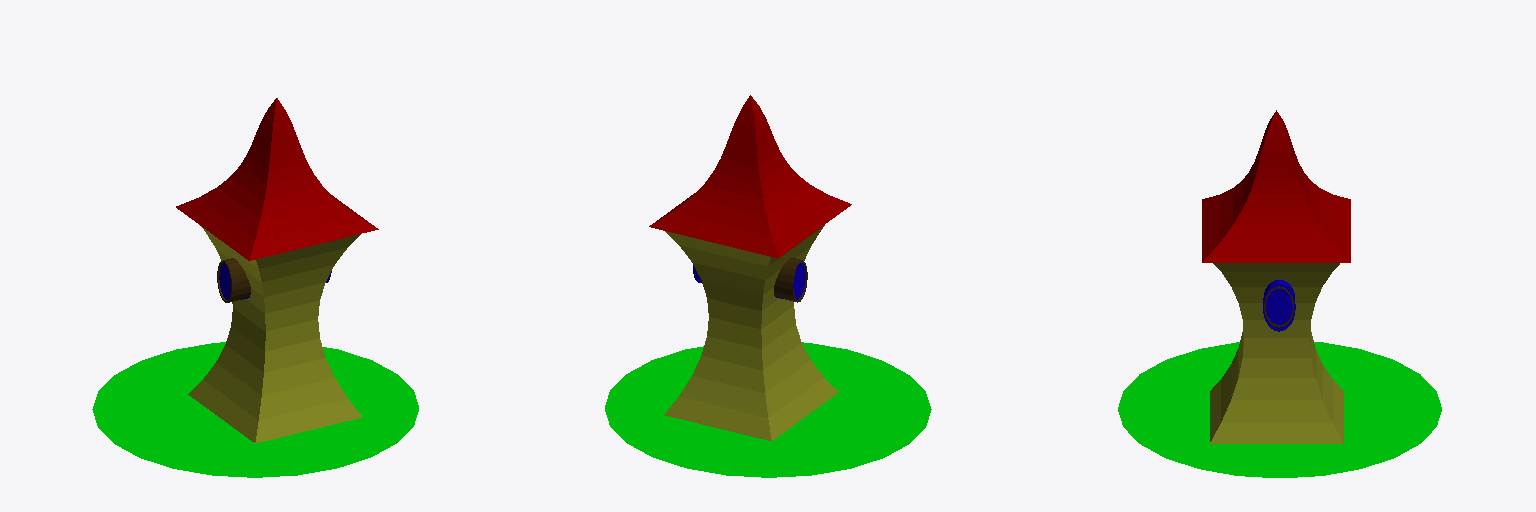
Rendered from House.obj.
3 renders of one model, left to right at view 1: azimuth 30°, elevation 25°; view 2: azimuth 150°, elevation 25°; view 3: azimuth 270°, elevation 25°, orthographic.
Visible parts, largest first — view 1: Cone001, Box001, Pyramid001, Tube001; view 2: Cone001, Box001, Pyramid001, Tube001; view 3: Cone001, Box001, Pyramid001, Cone002.
Boxes of the visible parts, box(x1,y1,x2,y2) form: Cone001: box(92, 342, 418, 477); Box001: box(188, 226, 362, 443); Pyramid001: box(176, 98, 378, 260); Tube001: box(217, 258, 250, 302); Cone001: box(605, 342, 931, 477); Box001: box(664, 225, 838, 440); Pyramid001: box(649, 95, 851, 258); Tube001: box(774, 258, 807, 302); Cone001: box(1118, 342, 1441, 477); Box001: box(1210, 263, 1343, 443); Pyramid001: box(1202, 110, 1350, 262); Cone002: box(1263, 280, 1295, 331).
Size of the model in its own units: 127 by 133 by 126.